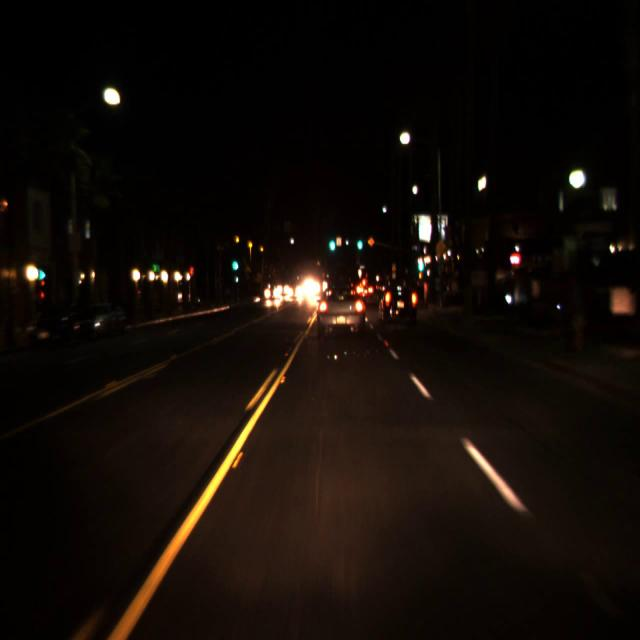go: (328, 228, 337, 254), (415, 254, 425, 274), (230, 250, 238, 274), (356, 232, 363, 250)
go traffic light: (328, 228, 337, 254), (415, 254, 425, 274), (230, 250, 238, 274), (356, 232, 363, 250)
